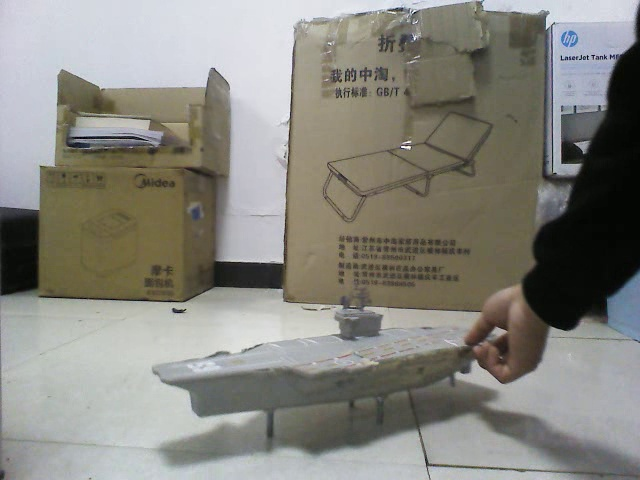aircraft_carrier: (153, 290, 499, 418)
